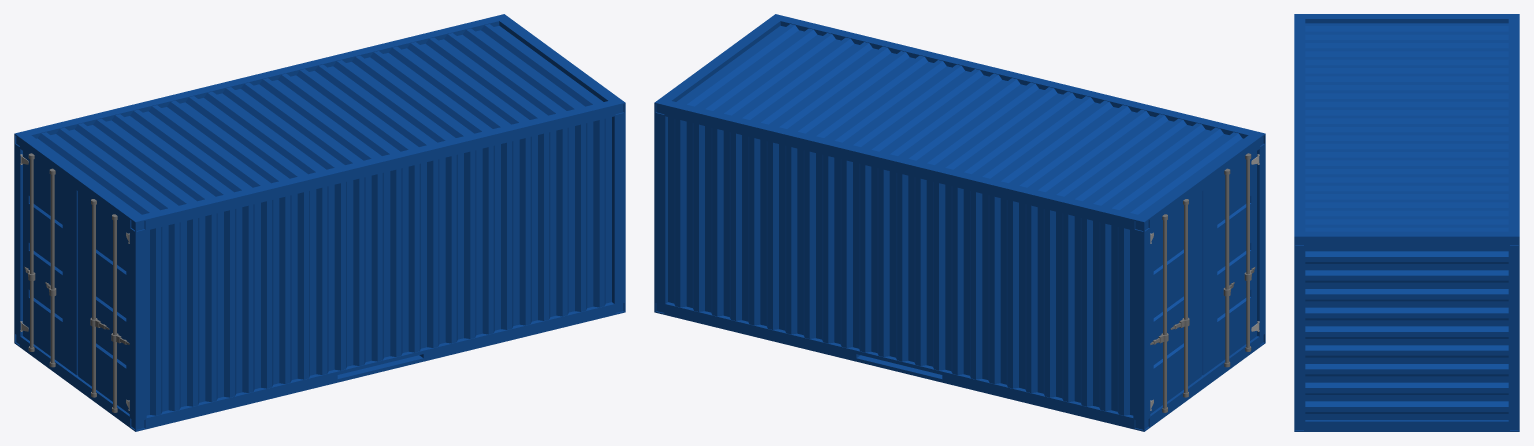
The model's file is contenedor.glb.
3 renders of one model, left to right at view 1: azimuth 30°, elevation 25°; view 2: azimuth 150°, elevation 25°; view 3: azimuth 270°, elevation 25°, orthographic. The views are drawn at different scales.
Parts seen in each view (by area): view 1: chapa, herrajes; view 2: chapa, herrajes; view 3: chapa.
Part boxes in pixels (x1=…): chapa: x1=14, y1=14, x2=625, y2=431; herrajes: x1=24, y1=153, x2=129, y2=412; chapa: x1=654, y1=14, x2=1265, y2=431; herrajes: x1=1150, y1=153, x2=1255, y2=412; chapa: x1=1294, y1=14, x2=1519, y2=431.
Size of the model in its own units: 6.06 by 2.45 by 2.57.
